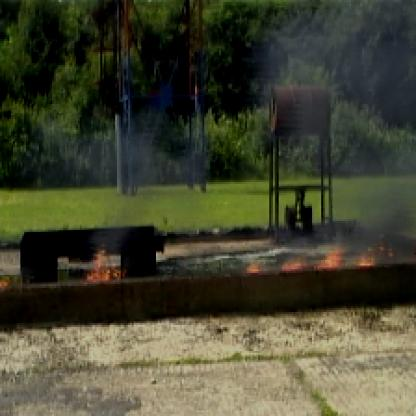Fire: (245, 234, 398, 279), (86, 240, 136, 290)
Smoke: (351, 2, 414, 230), (91, 91, 184, 234)
